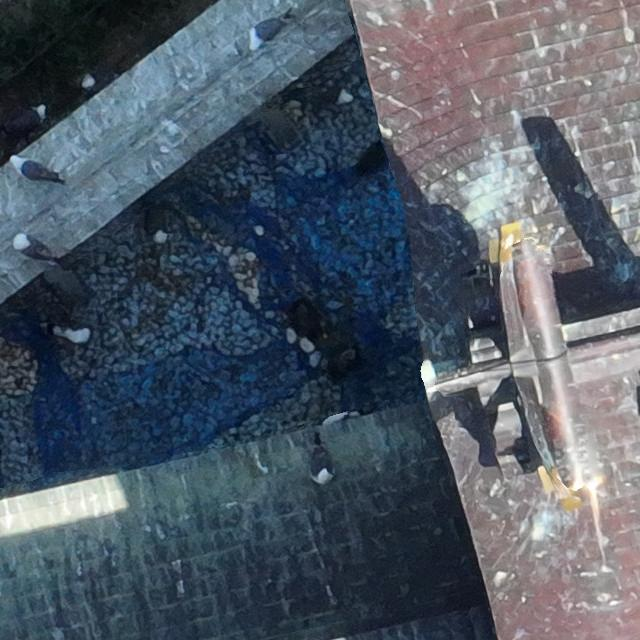umineko: (248, 15, 295, 51), (311, 442, 335, 486), (146, 203, 168, 245), (20, 240, 48, 258), (59, 328, 88, 344), (21, 163, 48, 178), (80, 70, 102, 88), (28, 103, 46, 120), (335, 89, 352, 107)
